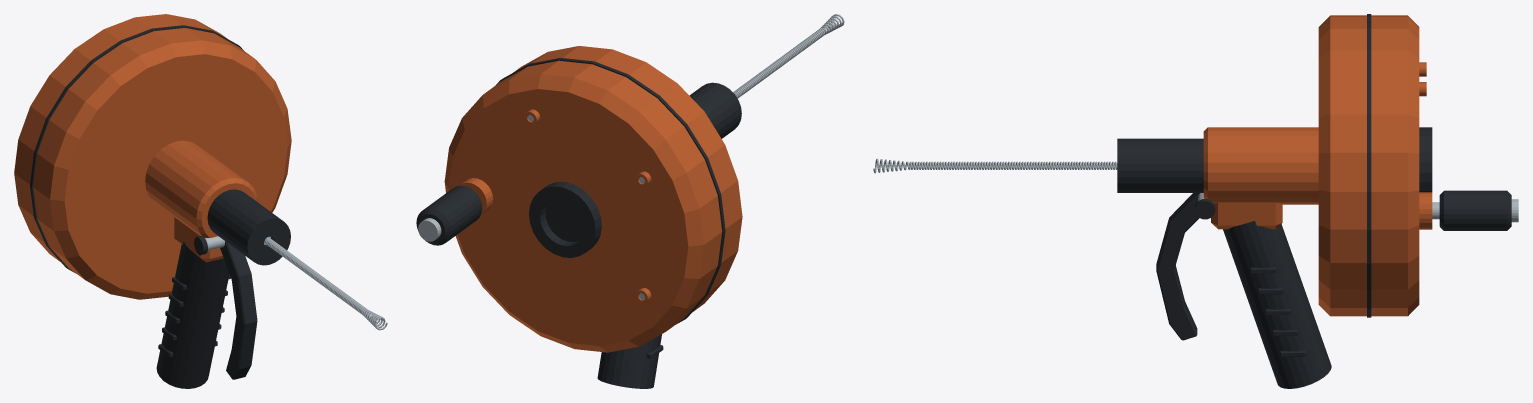
The model's file is full.glb.
3 views of the same model, side by side, from view 1: azimuth 30°, elevation 25°; view 2: azimuth 150°, elevation 25°; view 3: azimuth 270°, elevation 25° (orthographic). The views are drawn at different scales.
Parts seen in each view (by area): view 1: Closed shallow cable drum, Angled pistol handgrip, Front axial neck, Hollow cable feed nose, Separate curved trigger, Drum perimeter seam, Continuous spring cable and open coil tip, Handle supporting saddle; view 2: Closed shallow cable drum, Rear central recess rim, Angled pistol handgrip, Short rear winding grip, Hollow cable feed nose, Drum perimeter seam, Rear recessed backing, Continuous spring cable and open coil tip, Offset crank mounting boss, Crank outer retainer; view 3: Closed shallow cable drum, Angled pistol handgrip, Front axial neck, Hollow cable feed nose, Separate curved trigger, Short rear winding grip, Continuous spring cable and open coil tip, Handle supporting saddle, Drum perimeter seam, Rear central recess rim.
Part boxes in pixels (x1,y1,x2,y2): Closed shallow cable drum: [14, 14, 291, 299]; Angled pistol handgrip: [156, 241, 229, 388]; Front axial neck: [145, 140, 258, 237]; Hollow cable feed nose: [207, 189, 290, 265]; Separate curved trigger: [220, 241, 257, 379]; Drum perimeter seam: [30, 25, 243, 273]; Continuous spring cable and open coil tip: [264, 237, 387, 330]; Handle supporting saddle: [174, 217, 223, 262]; Closed shallow cable drum: [444, 46, 742, 352]; Rear central recess rim: [529, 181, 601, 257]; Angled pistol handgrip: [597, 334, 661, 388]; Short rear winding grip: [416, 185, 482, 245]; Hollow cable feed nose: [689, 82, 741, 138]; Drum perimeter seam: [496, 58, 725, 324]; Rear recessed backing: [545, 198, 584, 242]; Continuous spring cable and open coil tip: [733, 14, 844, 98]; Offset crank mounting boss: [459, 178, 493, 214]; Crank outer retainer: [418, 218, 441, 241]; Closed shallow cable drum: [1318, 15, 1419, 316]; Angled pistol handgrip: [1223, 221, 1331, 388]; Front axial neck: [1203, 127, 1318, 204]; Hollow cable feed nose: [1117, 138, 1203, 192]; Separate curved trigger: [1156, 193, 1199, 340]; Short rear winding grip: [1439, 190, 1511, 230]; Continuous spring cable and open coil tip: [873, 158, 1117, 173]; Handle supporting saddle: [1211, 202, 1282, 229]; Drum perimeter seam: [1367, 14, 1371, 317]; Rear central recess rim: [1419, 127, 1432, 192].
Bounding box in the file's own units: 0.212 × 0.2721 × 0.4487.
